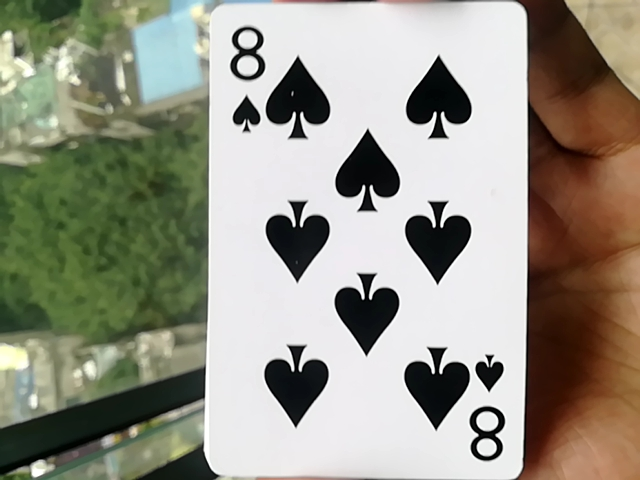ht 8: (198, 0, 521, 475)
